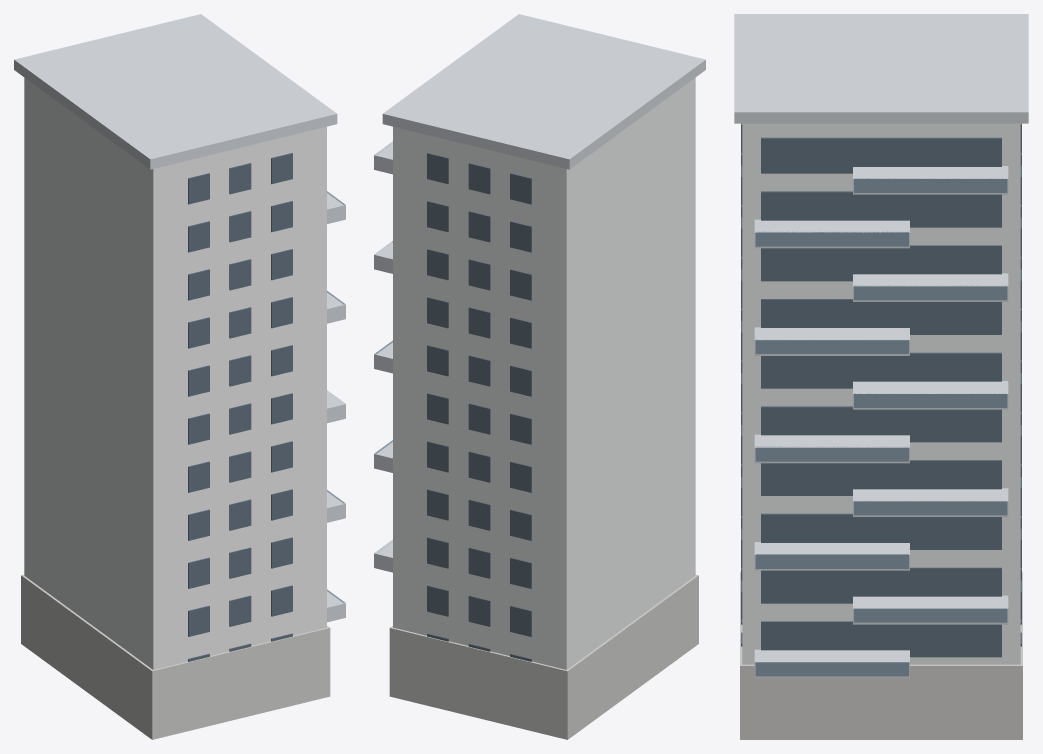
Rendered from rambla_building_15.glb.
3 views of the same model, side by side, from view 1: azimuth 30°, elevation 25°; view 2: azimuth 150°, elevation 25°; view 3: azimuth 270°, elevation 25° (orthographic). The views are drawn at different scales.
Parts seen in each view (by area): view 1: RamblaBuilding_15; view 2: RamblaBuilding_15; view 3: RamblaBuilding_15.
Boxes of the visible parts, x1,y1,x2,y2 form: RamblaBuilding_15: [14, 14, 345, 739]; RamblaBuilding_15: [374, 14, 705, 739]; RamblaBuilding_15: [734, 14, 1028, 739].
Bounding box in the file's own units: 12.51 × 34 × 14.4.
